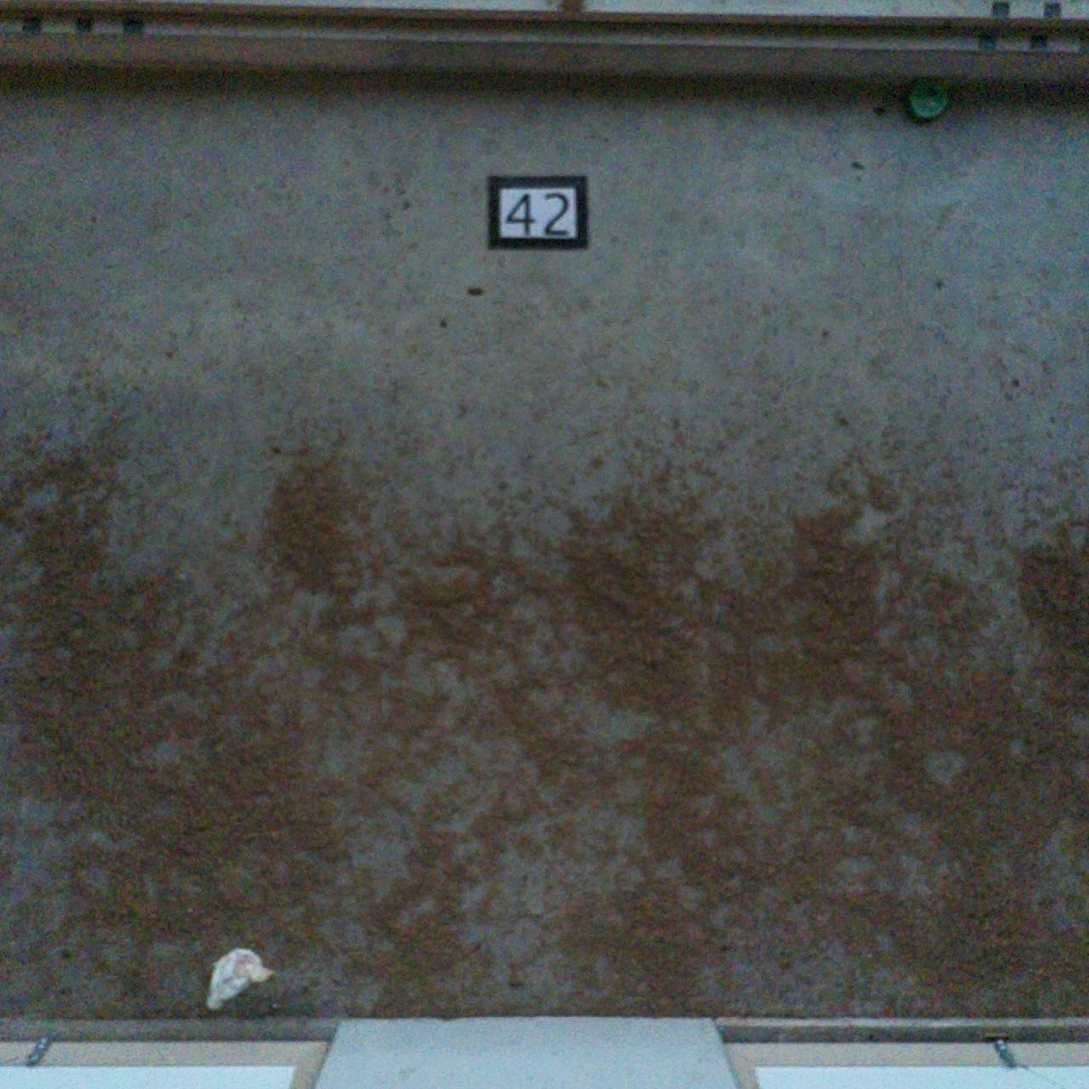chicken: (205, 949, 271, 1008)
